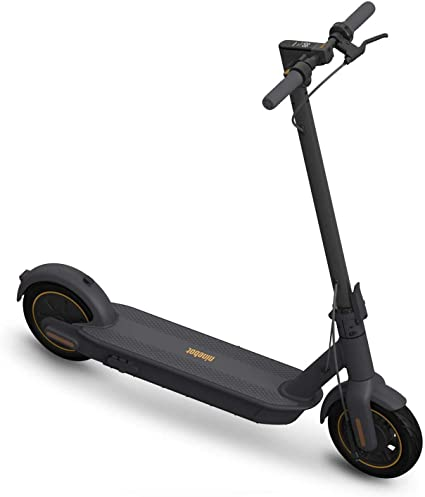scooter: (14, 1, 425, 482)
